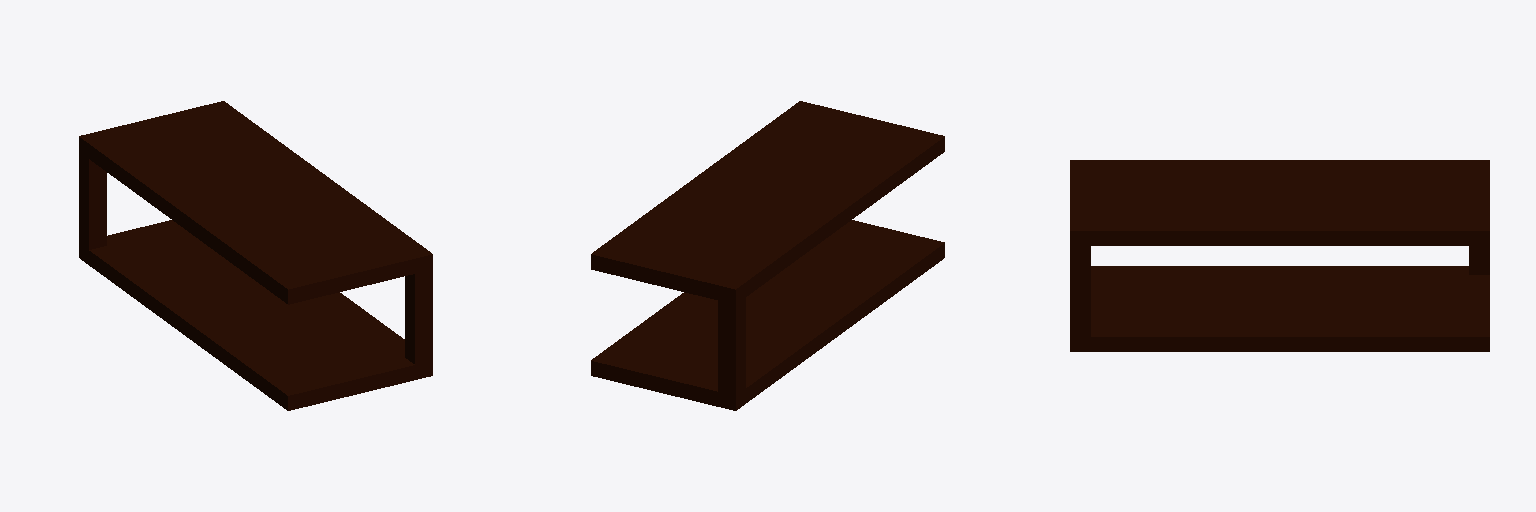
File: CoffeeTable.obj
3 renders of one model, left to right at view 1: azimuth 30°, elevation 25°; view 2: azimuth 150°, elevation 25°; view 3: azimuth 270°, elevation 25°, orthographic.
Visible parts, largest first — view 1: CoffeeTable_Cube.007_Cube.008; view 2: CoffeeTable_Cube.007_Cube.008; view 3: CoffeeTable_Cube.007_Cube.008.
Part boxes in pixels (x1,y1,x2,y2): CoffeeTable_Cube.007_Cube.008: (79,101,432,410); CoffeeTable_Cube.007_Cube.008: (591,101,944,410); CoffeeTable_Cube.007_Cube.008: (1070,160,1489,351).
Size of the model in its own units: 2.82 by 2.26 by 7.05.